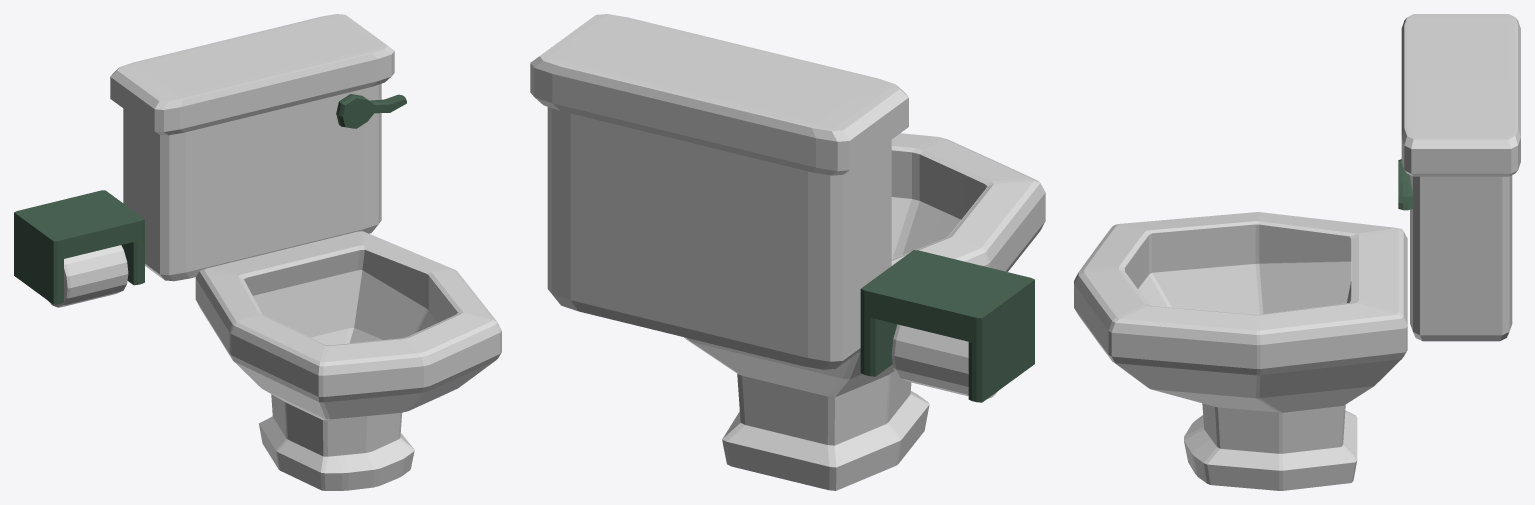
File: Bathroom_Toilet.fbx
The picture shows the model from 3 angles, left to right: view 1: azimuth 30°, elevation 25°; view 2: azimuth 150°, elevation 25°; view 3: azimuth 270°, elevation 25°; orthographic projection. The views are drawn at different scales.
Parts seen in each view (by area): view 1: Bathroom_Toilet.004, Bathroom_Toilet.001, Bathroom_Toilet.002, Bathroom_Toilet; view 2: Bathroom_Toilet.004, Bathroom_Toilet.001, Bathroom_Toilet.002; view 3: Bathroom_Toilet.001, Bathroom_Toilet.004, Bathroom_Toilet.
Part boxes in pixels (x1=…): Bathroom_Toilet.004: x1=110, y1=14, x2=394, y2=281; Bathroom_Toilet.001: x1=48, y1=231, x2=501, y2=490; Bathroom_Toilet.002: x1=14, y1=190, x2=144, y2=304; Bathroom_Toilet: x1=336, y1=94, x2=406, y2=128; Bathroom_Toilet.004: x1=530, y1=14, x2=908, y2=369; Bathroom_Toilet.001: x1=684, y1=133, x2=1045, y2=490; Bathroom_Toilet.002: x1=860, y1=250, x2=1034, y2=402; Bathroom_Toilet.001: x1=1074, y1=212, x2=1407, y2=490; Bathroom_Toilet.004: x1=1401, y1=14, x2=1520, y2=341; Bathroom_Toilet: x1=1398, y1=159, x2=1413, y2=210.
Bounding box in the file's own units: 106 × 99.46 × 105.
